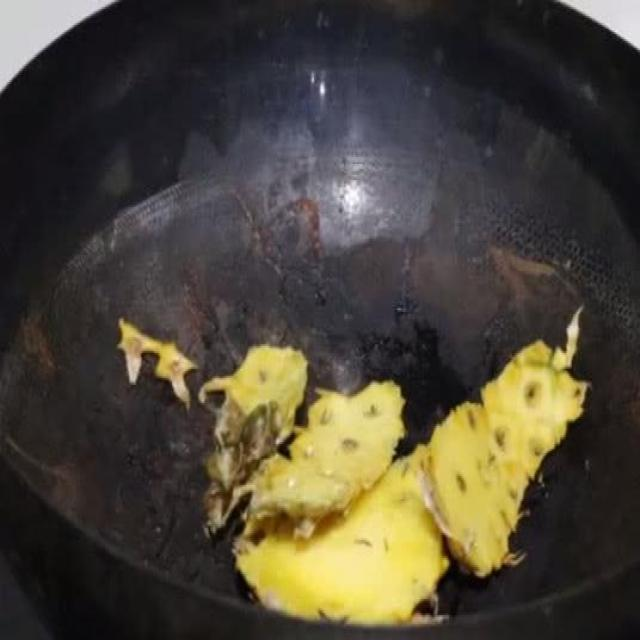Wet: (116, 305, 590, 631)
